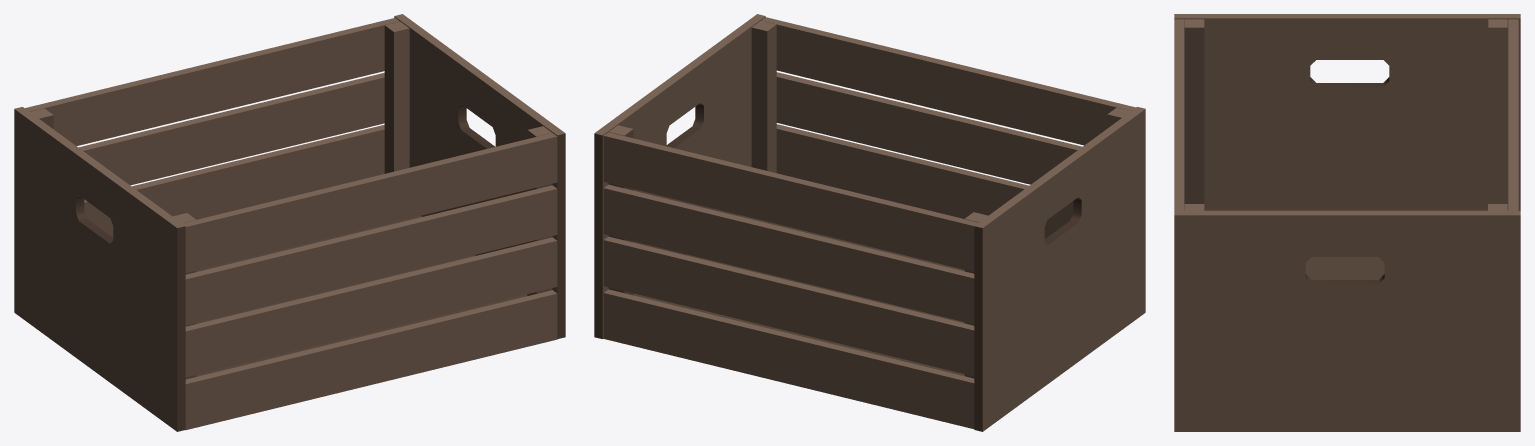
3 views of the same model, side by side, from view 1: azimuth 30°, elevation 25°; view 2: azimuth 150°, elevation 25°; view 3: azimuth 270°, elevation 25° (orthographic). The views are drawn at different scales.
Visible parts, largest first — view 1: SmallWoodCrate; view 2: SmallWoodCrate; view 3: SmallWoodCrate.
Part boxes in pixels (x1,y1,x2,y2): SmallWoodCrate: [14, 14, 565, 431]; SmallWoodCrate: [594, 14, 1145, 431]; SmallWoodCrate: [1174, 14, 1520, 431].
Size of the model in its own units: 0.5 by 0.251 by 0.3636.
